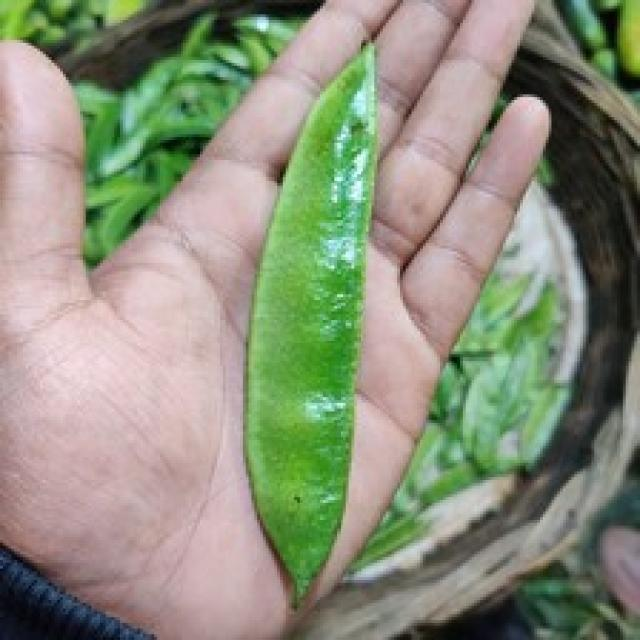Bean: (240, 37, 377, 609)
